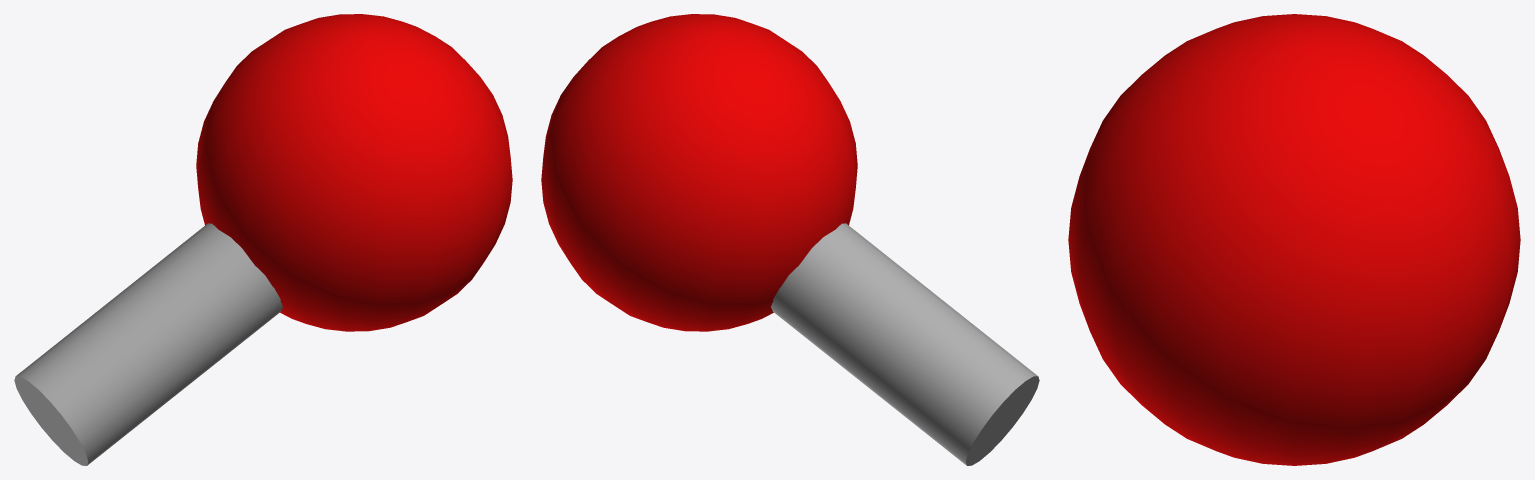
Rendered from Lever 4.fbx.
3 views of the same model, side by side, from view 1: azimuth 30°, elevation 25°; view 2: azimuth 150°, elevation 25°; view 3: azimuth 270°, elevation 25° (orthographic). The views are drawn at different scales.
Parts seen in each view (by area): view 1: polySurface29, polySurface30; view 2: polySurface29, polySurface30; view 3: polySurface29.
Part boxes in pixels (<box>): polySurface29: <box>196,14,512,331</box>; polySurface30: <box>14,223,282,465</box>; polySurface29: <box>541,14,857,331</box>; polySurface30: <box>771,223,1039,465</box>; polySurface29: <box>1068,14,1520,465</box>.
Size of the model in its own units: 0.624 by 0.4681 by 0.3707.
